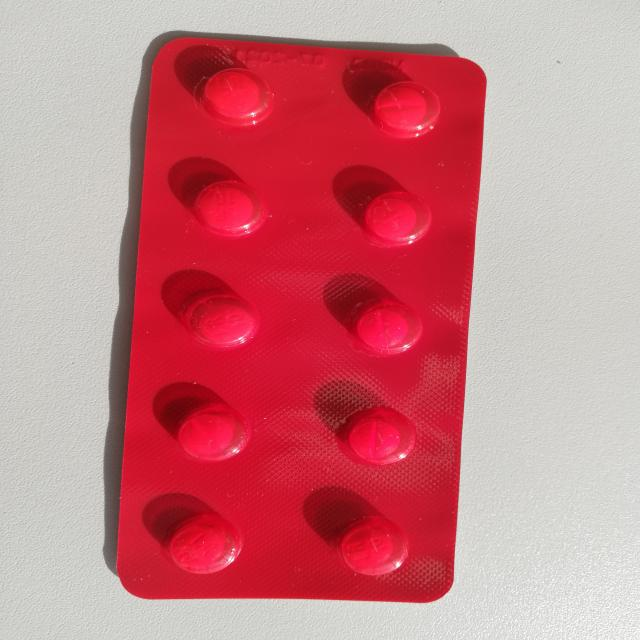Pill: (150, 512, 252, 582), (174, 175, 274, 243), (170, 292, 268, 359), (335, 406, 426, 475), (161, 400, 252, 469), (328, 514, 420, 582), (189, 61, 281, 128), (343, 299, 435, 365), (350, 188, 441, 247), (361, 79, 443, 143)
